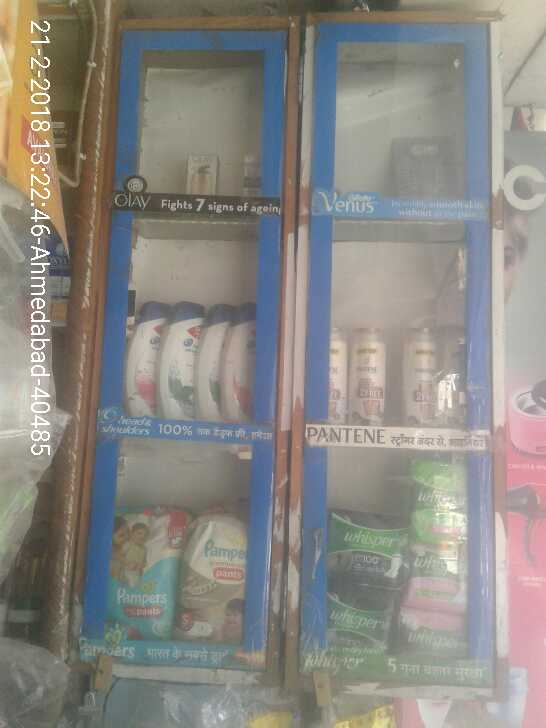venus: (393, 133, 458, 195)
